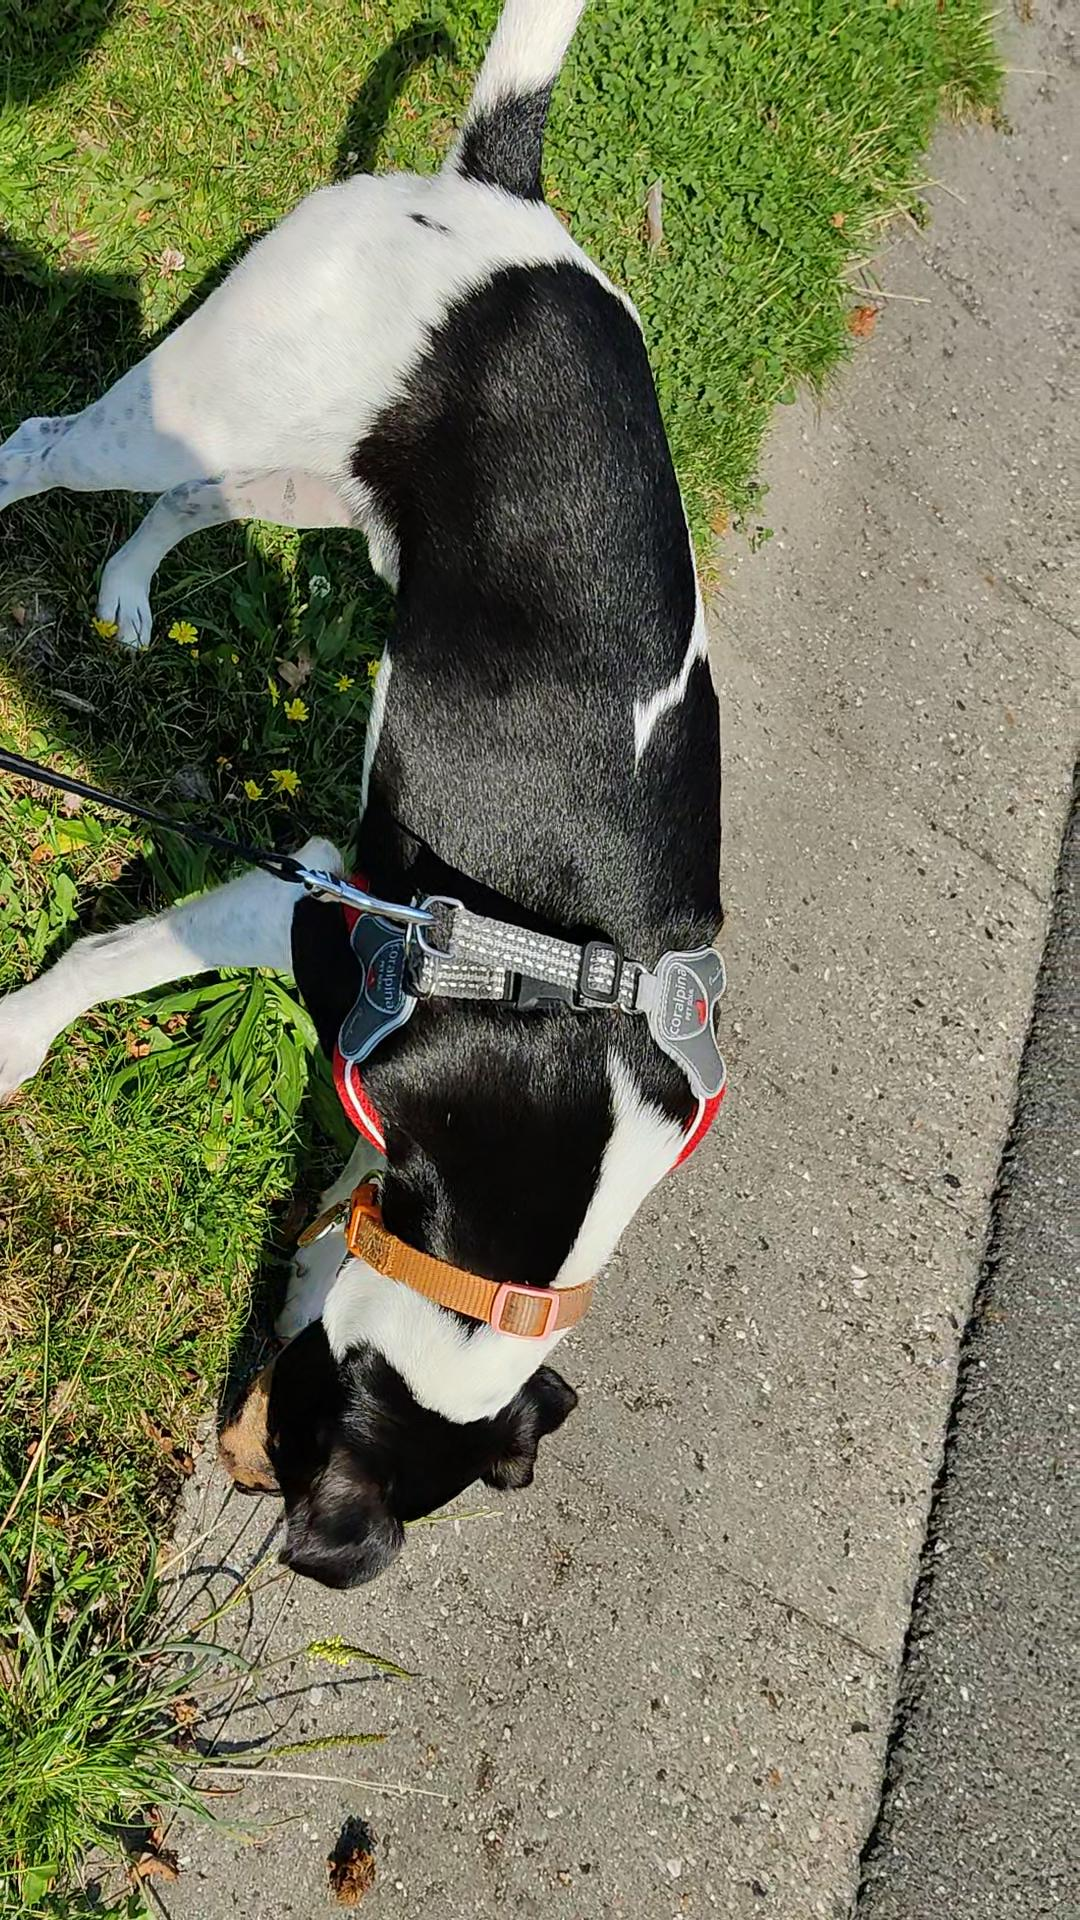Dog: (0, 0, 744, 1600)
